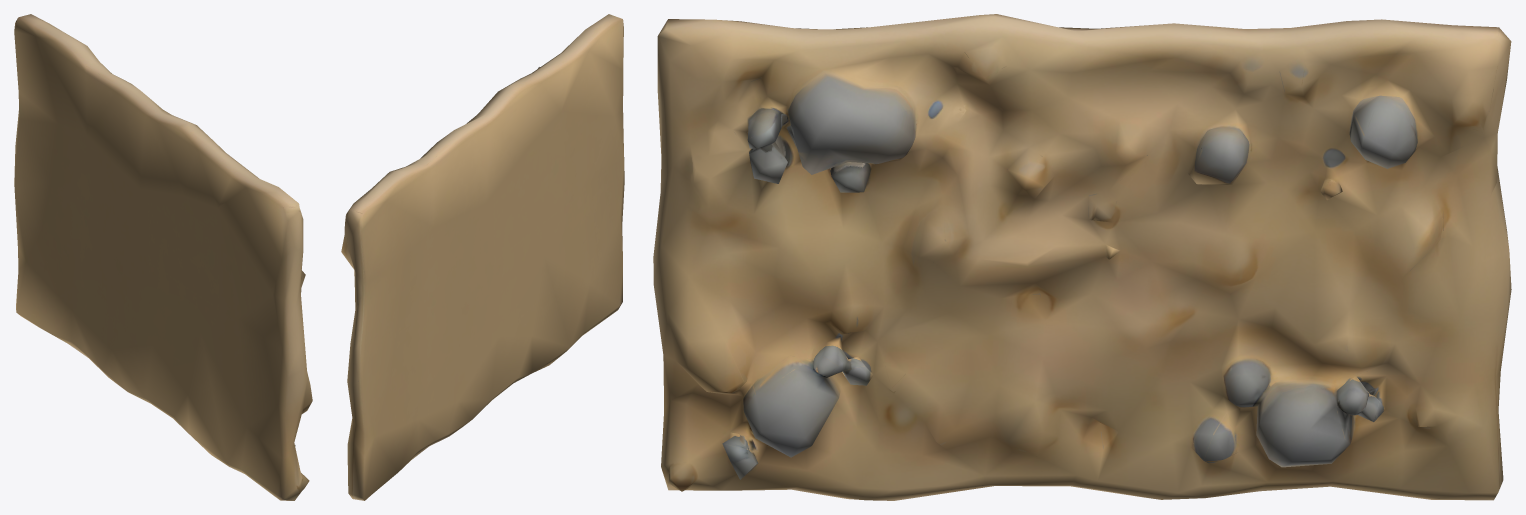
The model's file is SpongeBlock_lowpoly.glb.
3 renders of one model, left to right at view 1: azimuth 30°, elevation 25°; view 2: azimuth 150°, elevation 25°; view 3: azimuth 270°, elevation 25°, orthographic. The views are drawn at different scales.
Parts seen in each view (by area): view 1: Mesh1.0; view 2: Mesh1.0; view 3: Mesh1.0.
Boxes of the visible parts, x1,y1,x2,y2 form: Mesh1.0: (14,14,312,500); Mesh1.0: (341,14,624,500); Mesh1.0: (653,14,1511,500).
Size of the model in its own units: 0.0513 by 0.3 by 0.4832.
1 material, 1 textured.
